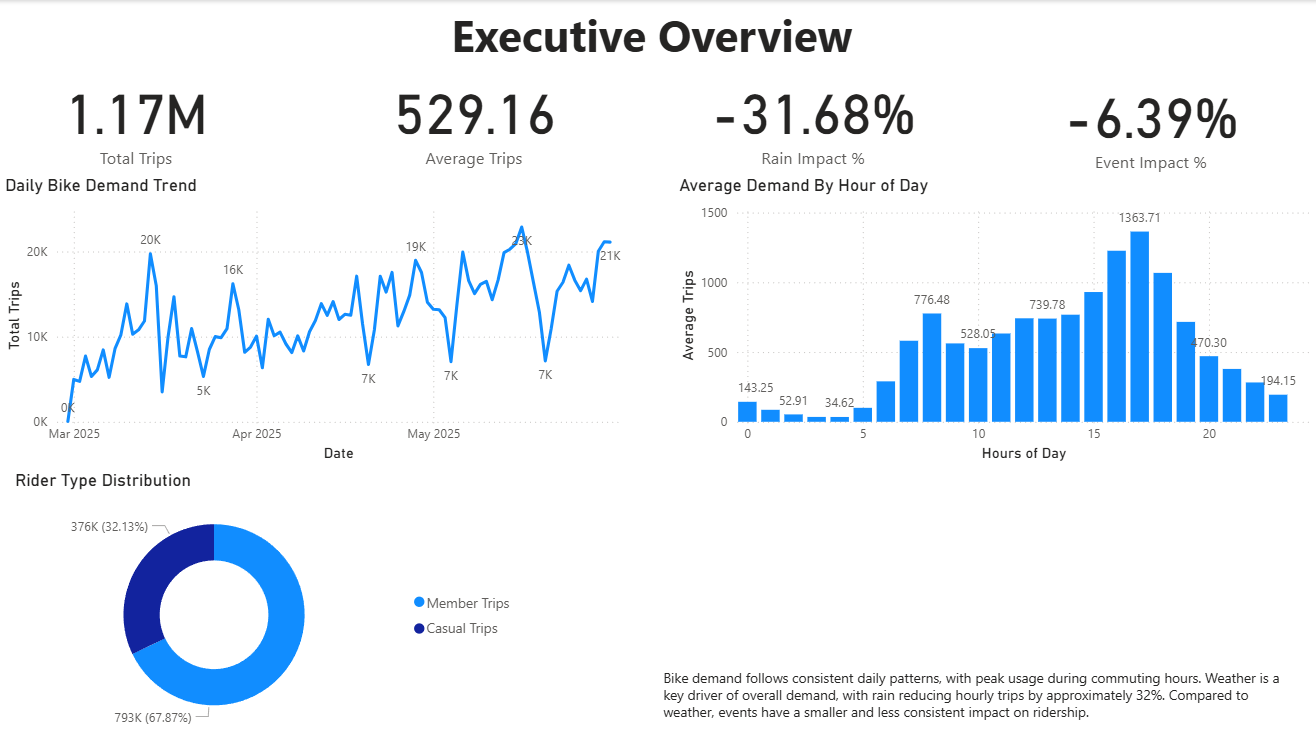

What the dashboard file says about the page in this screenshot:
{"tool":"powerbi","page":{"name":"Executuve Overview","canvas":[1280,720],"ordinal":0},"visuals":[{"type":"card","fields":{"Values":["demand.Total Trips"]},"box":[22.4,60.3,219.8,109.9],"z":0},{"type":"card","fields":{"Values":["demand.Rain Impact %"]},"box":[680.5,60.3,219.8,109.9],"z":1000},{"type":"card","fields":{"Values":["demand.Event Impact %"]},"box":[1009.6,64.2,219.8,109.9],"z":2000},{"type":"card","fields":{"Values":["demand.Avg Trips"]},"box":[351.4,60.3,219.8,109.9],"z":3000},{"type":"lineChart","title":"Daily Bike Demand Trend","fields":{"Category":["demand.date"],"Y":["demand.Total Trips"]},"box":[0,170.2,624.4,283],"z":4000},{"type":"clusteredColumnChart","title":"Average Demand By Hour of Day","fields":{"Category":["demand.hour"],"Y":["Avg(demand.trip_count)"]},"box":[655.6,170.2,624.4,283],"z":5000},{"type":"donutChart","title":"Rider Type Distribution","fields":{"Y":["demand.Member Trips","demand.Casual Trips"]},"box":[9.7,457.1,499.9,262.6],"z":6000},{"type":"textbox","box":[433.8,0,411.4,82.7],"z":7000},{"type":"textbox","box":[640,644.9,624.4,74.9],"z":8000}]}

Visuals, with their boxes in screenshot pixels (x1, y1, x2, y2), scaled from the page's 1280x720 canvas onto the 1316x739 screenshot:
card - demand.Total Trips: [23, 62, 249, 175]
card - demand.Rain Impact %: [700, 62, 926, 175]
card - demand.Event Impact %: [1038, 66, 1264, 179]
card - demand.Avg Trips: [361, 62, 587, 175]
"Daily Bike Demand Trend" lineChart: [0, 175, 642, 465]
"Average Demand By Hour of Day" clusteredColumnChart: [674, 175, 1315, 465]
"Rider Type Distribution" donutChart: [10, 469, 524, 738]
textbox: [446, 0, 869, 85]
textbox: [658, 662, 1300, 738]
